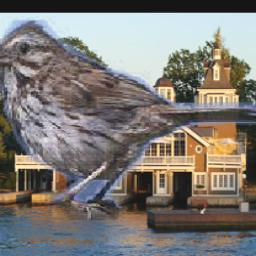Sparrow: (0, 15, 256, 220)
